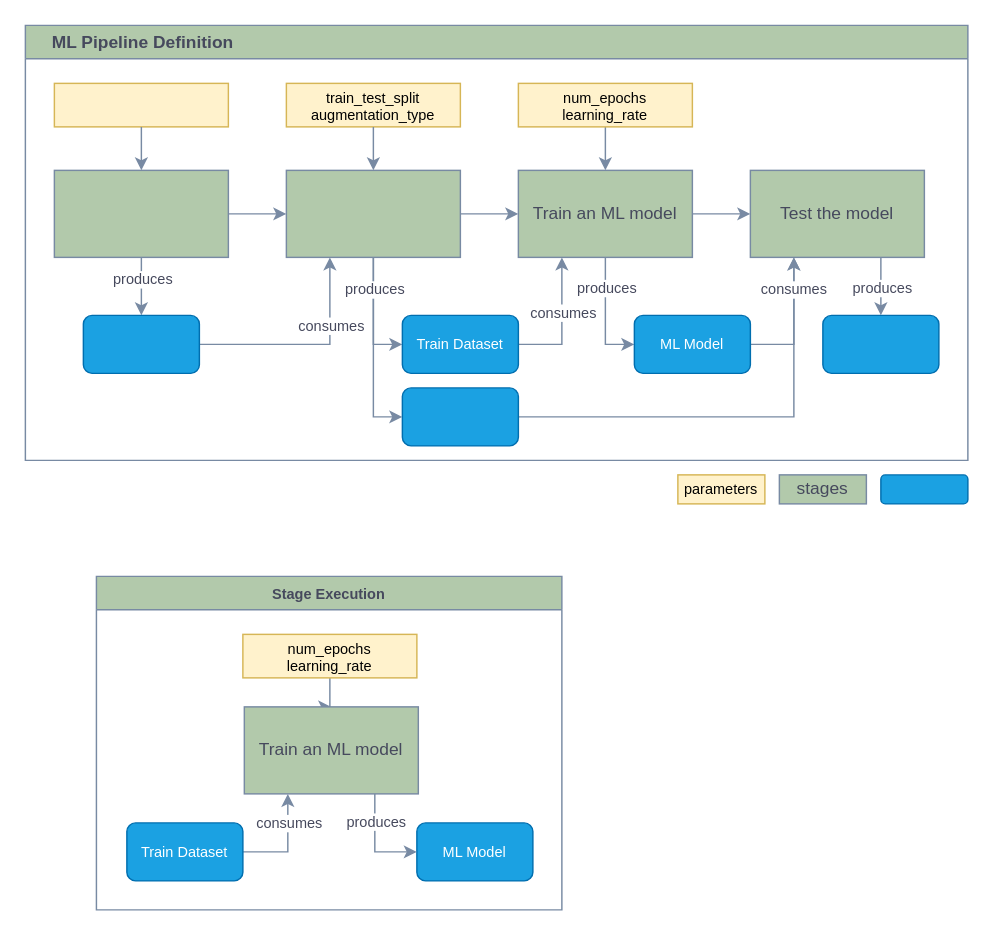
Image size: 993x935. Some labels were removed from this diagram. The shapes that lost their labels are listed below. From the top down, each one's centre as x and y in pixels, then its label:
the point at 140,104: data_url
the point at 140,213: Load Data
the point at 372,213: Preprocess Data
the point at 140,343: Dataset
the point at 880,343: Performance Metrics
the point at 459,416: Test Dataset
the point at 923,488: artifacts
